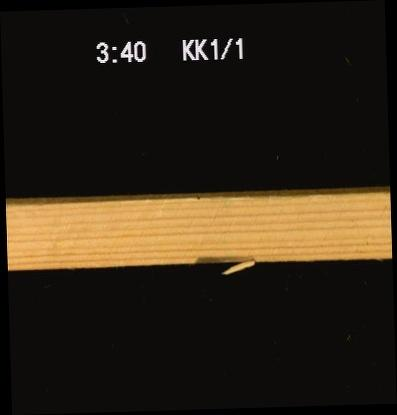wave: (191, 249, 258, 261)
